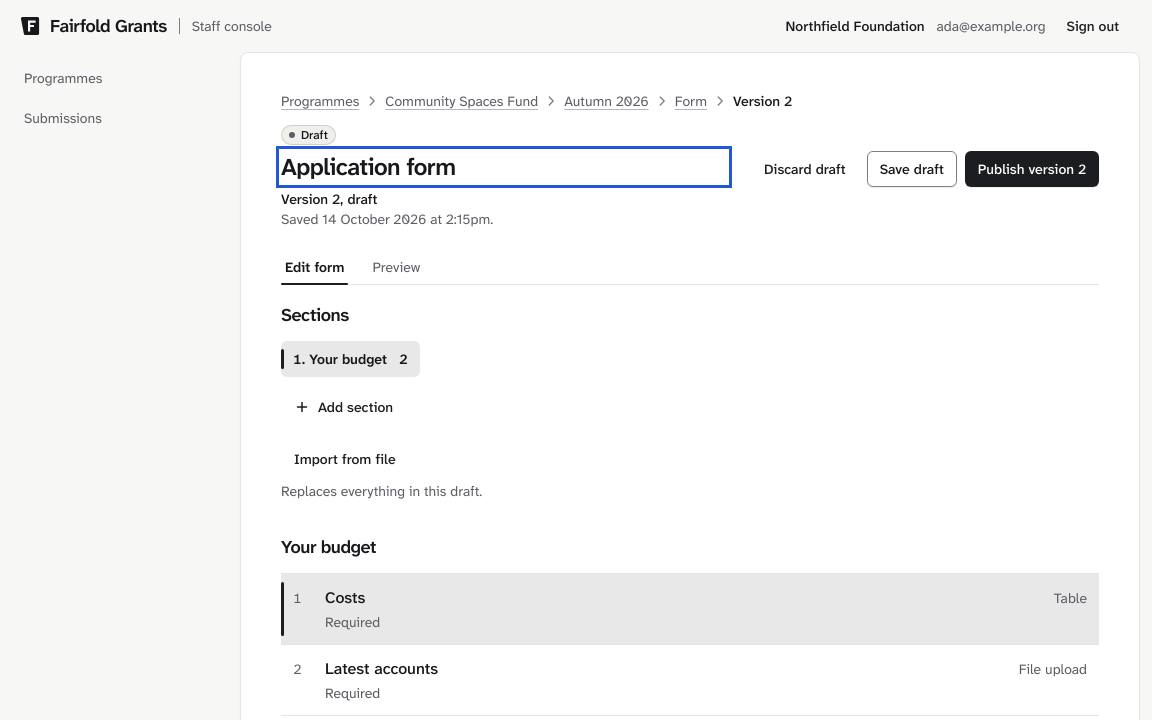
Test case: the preview of a table and a file question › shows the file question with its limits, and says that uploading is switched off
Expected: the heading "Application form" is shown, [281,151,455,183]
Expected: the text "Version 2, draft" is shown, [281,190,377,208]
What coordinates should you click on to do the following:
click the tab "Preview"
I would click on:
 (396, 267)
Its box is [368,249,424,285].
(page scrolled)
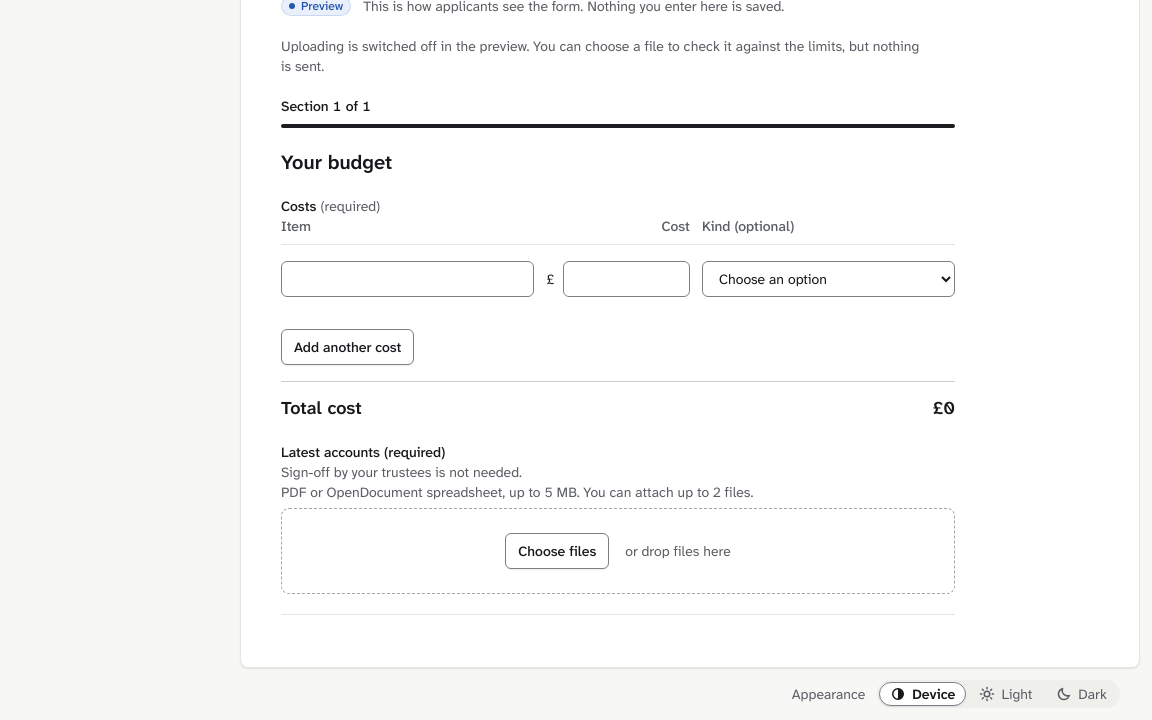
Now the text "Uploading is switched off in the preview" is shown, box [281,37,919,75]
Now the text "Sign-off by your trustees is not needed." is shown, box [281,463,522,481]
Now the text "PDF or OpenDocument spreadsheet, up to 5 MB. You can attach up to 2 files." is shown, box [281,483,753,501]
